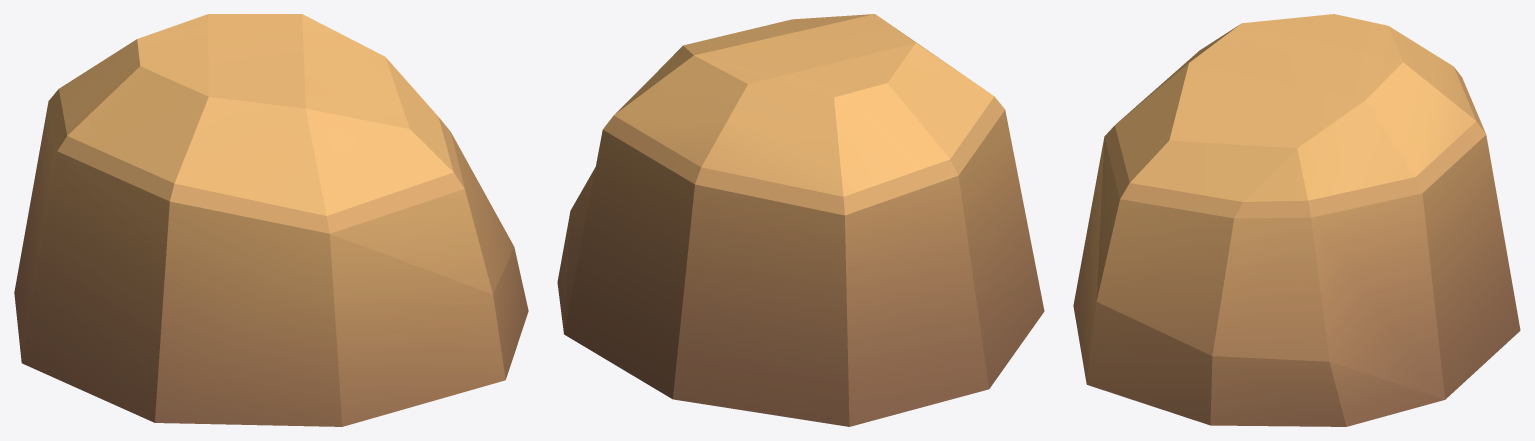
File: low rocka.fbx
The picture shows the model from 3 angles, left to right: view 1: azimuth 30°, elevation 25°; view 2: azimuth 150°, elevation 25°; view 3: azimuth 270°, elevation 25°; orthographic projection. The views are drawn at different scales.
Visible parts, largest first — view 1: low_rocka; view 2: low_rocka; view 3: low_rocka.
Part boxes in pixels (box(x1,y1,x2,y2)): low_rocka: box(14, 14, 528, 426); low_rocka: box(557, 14, 1044, 426); low_rocka: box(1073, 14, 1520, 426).
Size of the model in its own units: 7.13 by 4.3 by 6.66.
1 material, 1 textured.
